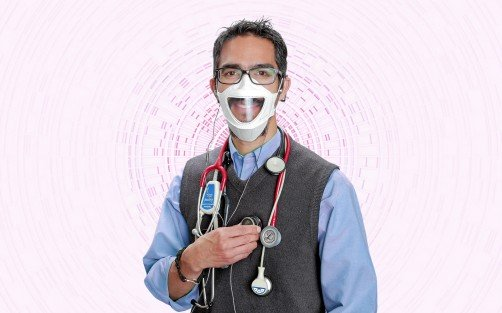mask: (201, 71, 305, 144)
